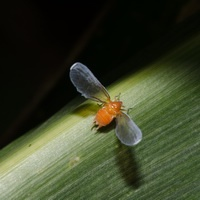insect: (69, 62, 141, 145)
